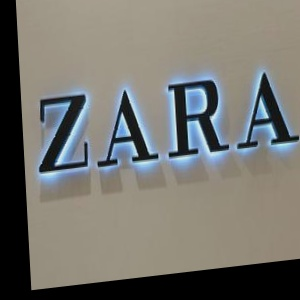zara: (289, 8, 300, 113)
